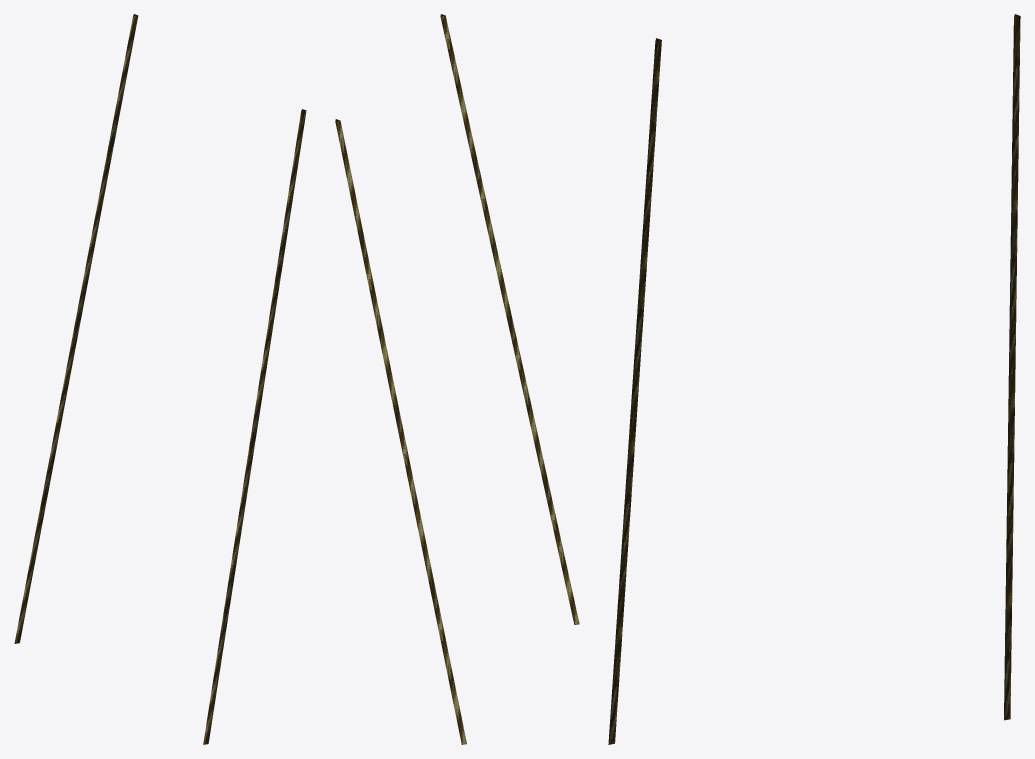
Rendered from OVERHILL_A_01_LINE187.fbx.
The picture shows the model from 3 angles, left to right: view 1: azimuth 30°, elevation 25°; view 2: azimuth 150°, elevation 25°; view 3: azimuth 270°, elevation 25°; orthographic projection. The views are drawn at different scales.
Visible parts, largest first — view 1: OVERHILL_A_01_LINE187; view 2: OVERHILL_A_01_LINE187; view 3: OVERHILL_A_01_LINE187.
Part boxes in pixels (x1,y1,x2,y2): OVERHILL_A_01_LINE187: [14, 14, 306, 744]; OVERHILL_A_01_LINE187: [335, 14, 579, 744]; OVERHILL_A_01_LINE187: [608, 14, 1020, 744].
Bounding box in the file's own units: 14487 × 51772 × 24735.
1 material, 1 textured.
